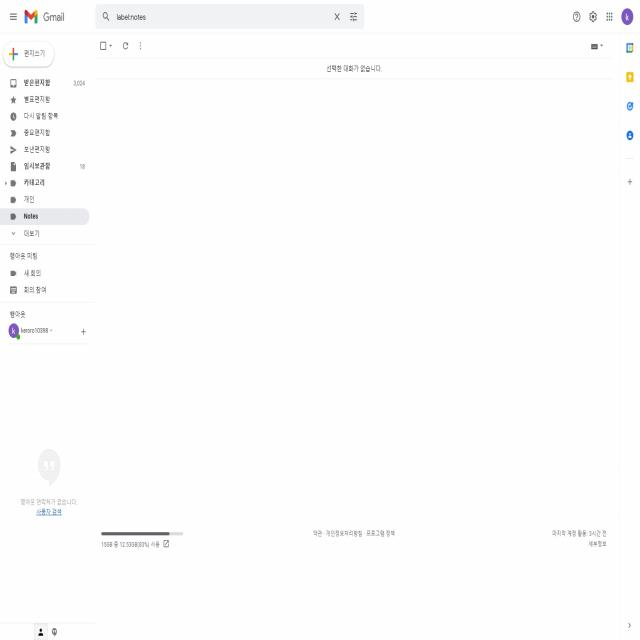menu-bar: (565, 2, 638, 30)
search: (94, 2, 365, 32)
side-panel: (2, 38, 92, 639), (620, 35, 640, 639)
